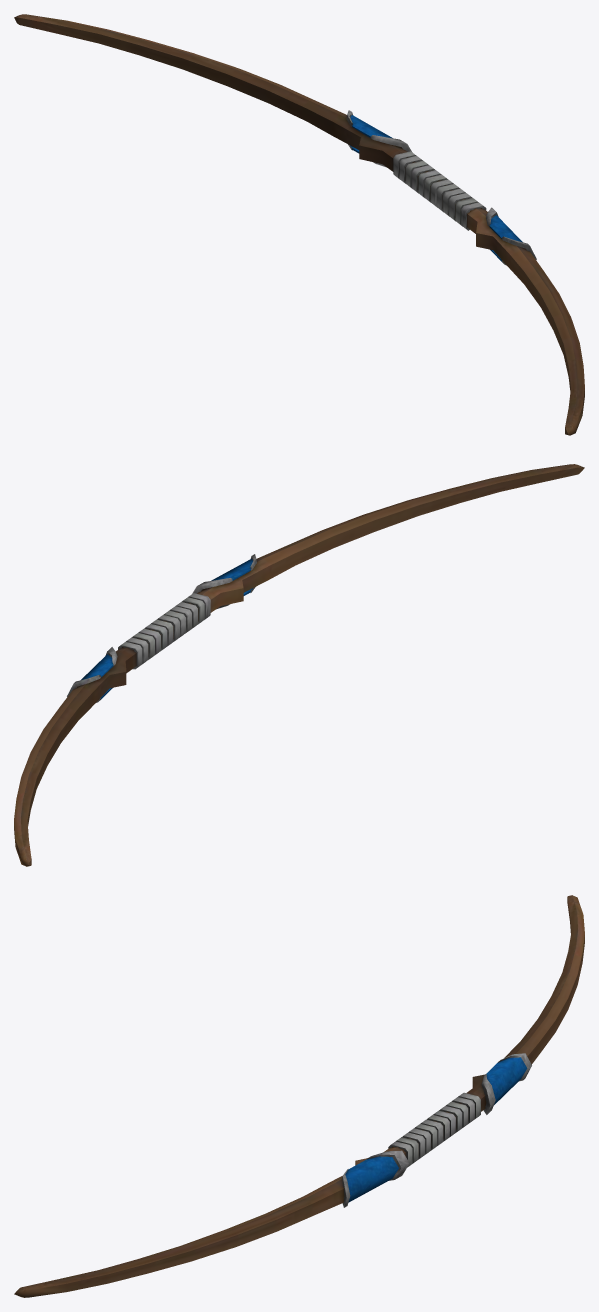
File: bow_m_woodbow_woodbow.glb
3 views of the same model, one above another, from view 1: azimuth 30°, elevation 25°; view 2: azimuth 150°, elevation 25°; view 3: azimuth 330°, elevation 25° (orthographic). The views are drawn at different scales.
Bounding box in the file's own units: 0.3277 × 0.0526 × 1.89.
1 material, 1 textured.
